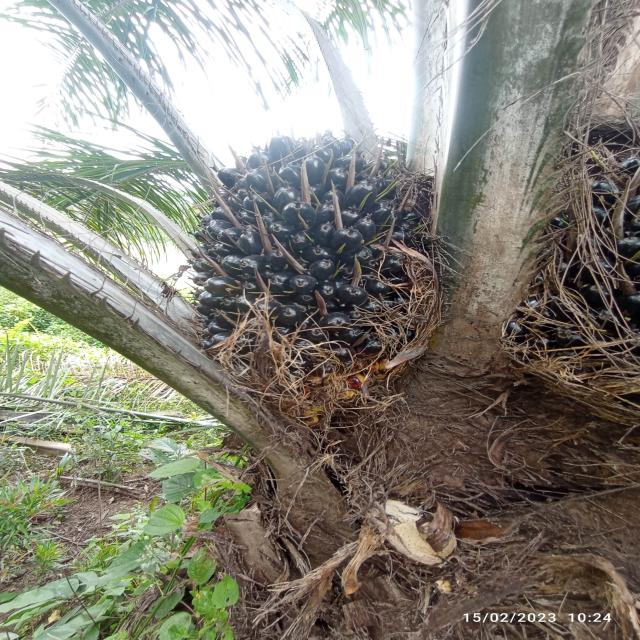fraksi 00: (157, 110, 472, 386)
